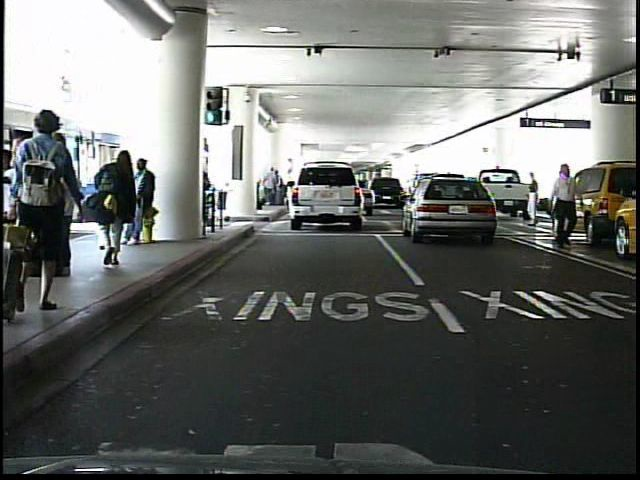person: (23, 108, 81, 325), (96, 140, 146, 272), (126, 156, 162, 249), (551, 162, 583, 253), (527, 171, 546, 228), (557, 169, 566, 210)
